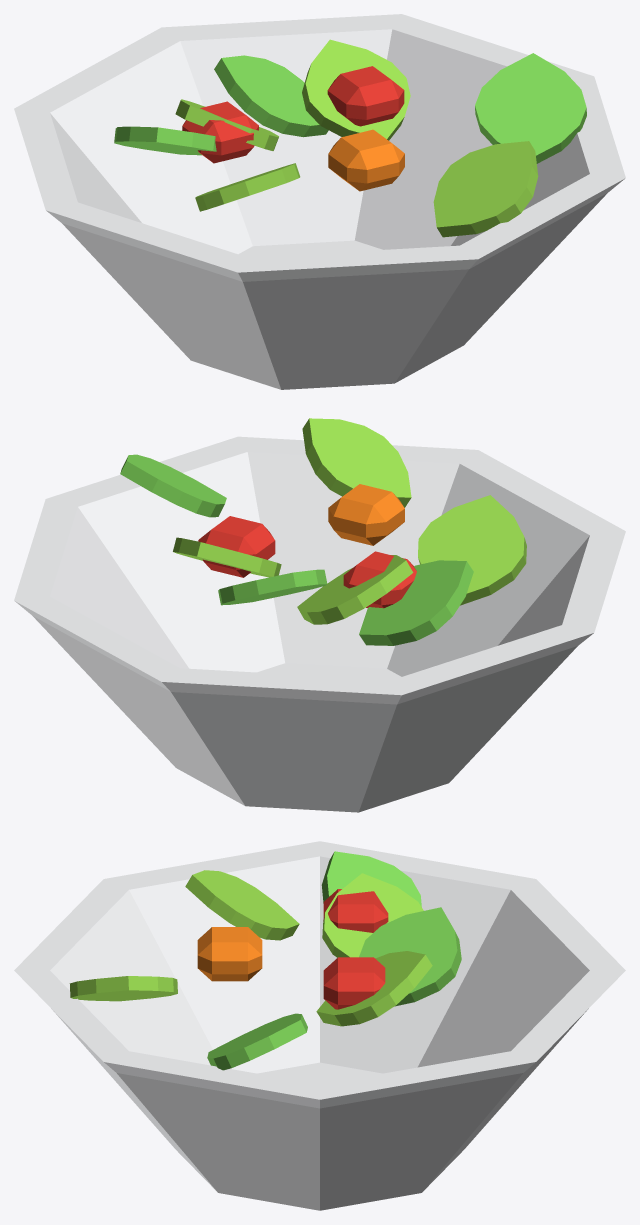
File: SaladBowl.fbx
The picture shows the model from 3 angles, top to bottom: view 1: azimuth 30°, elevation 25°; view 2: azimuth 150°, elevation 25°; view 3: azimuth 270°, elevation 25°; orthographic projection. The views are drawn at different scales.
Visible parts, largest first — view 1: SaladBowl; view 2: SaladBowl; view 3: SaladBowl.
Boxes of the visible parts, x1=… form: SaladBowl: x1=14, y1=14, x2=625, y2=389; SaladBowl: x1=14, y1=418, x2=625, y2=812; SaladBowl: x1=14, y1=841, x2=625, y2=1210.
Bounding box in the file's own units: 1.7 × 0.6923 × 1.7.
1 material, 1 textured.
